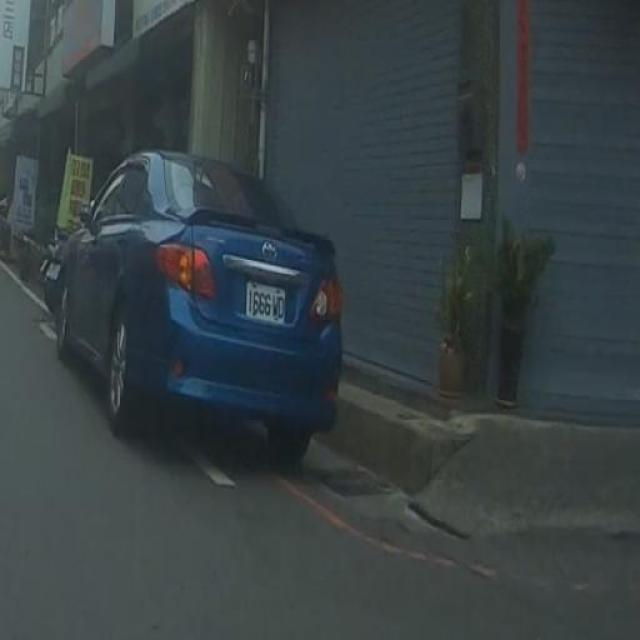illegalparking: (12, 114, 375, 525)
